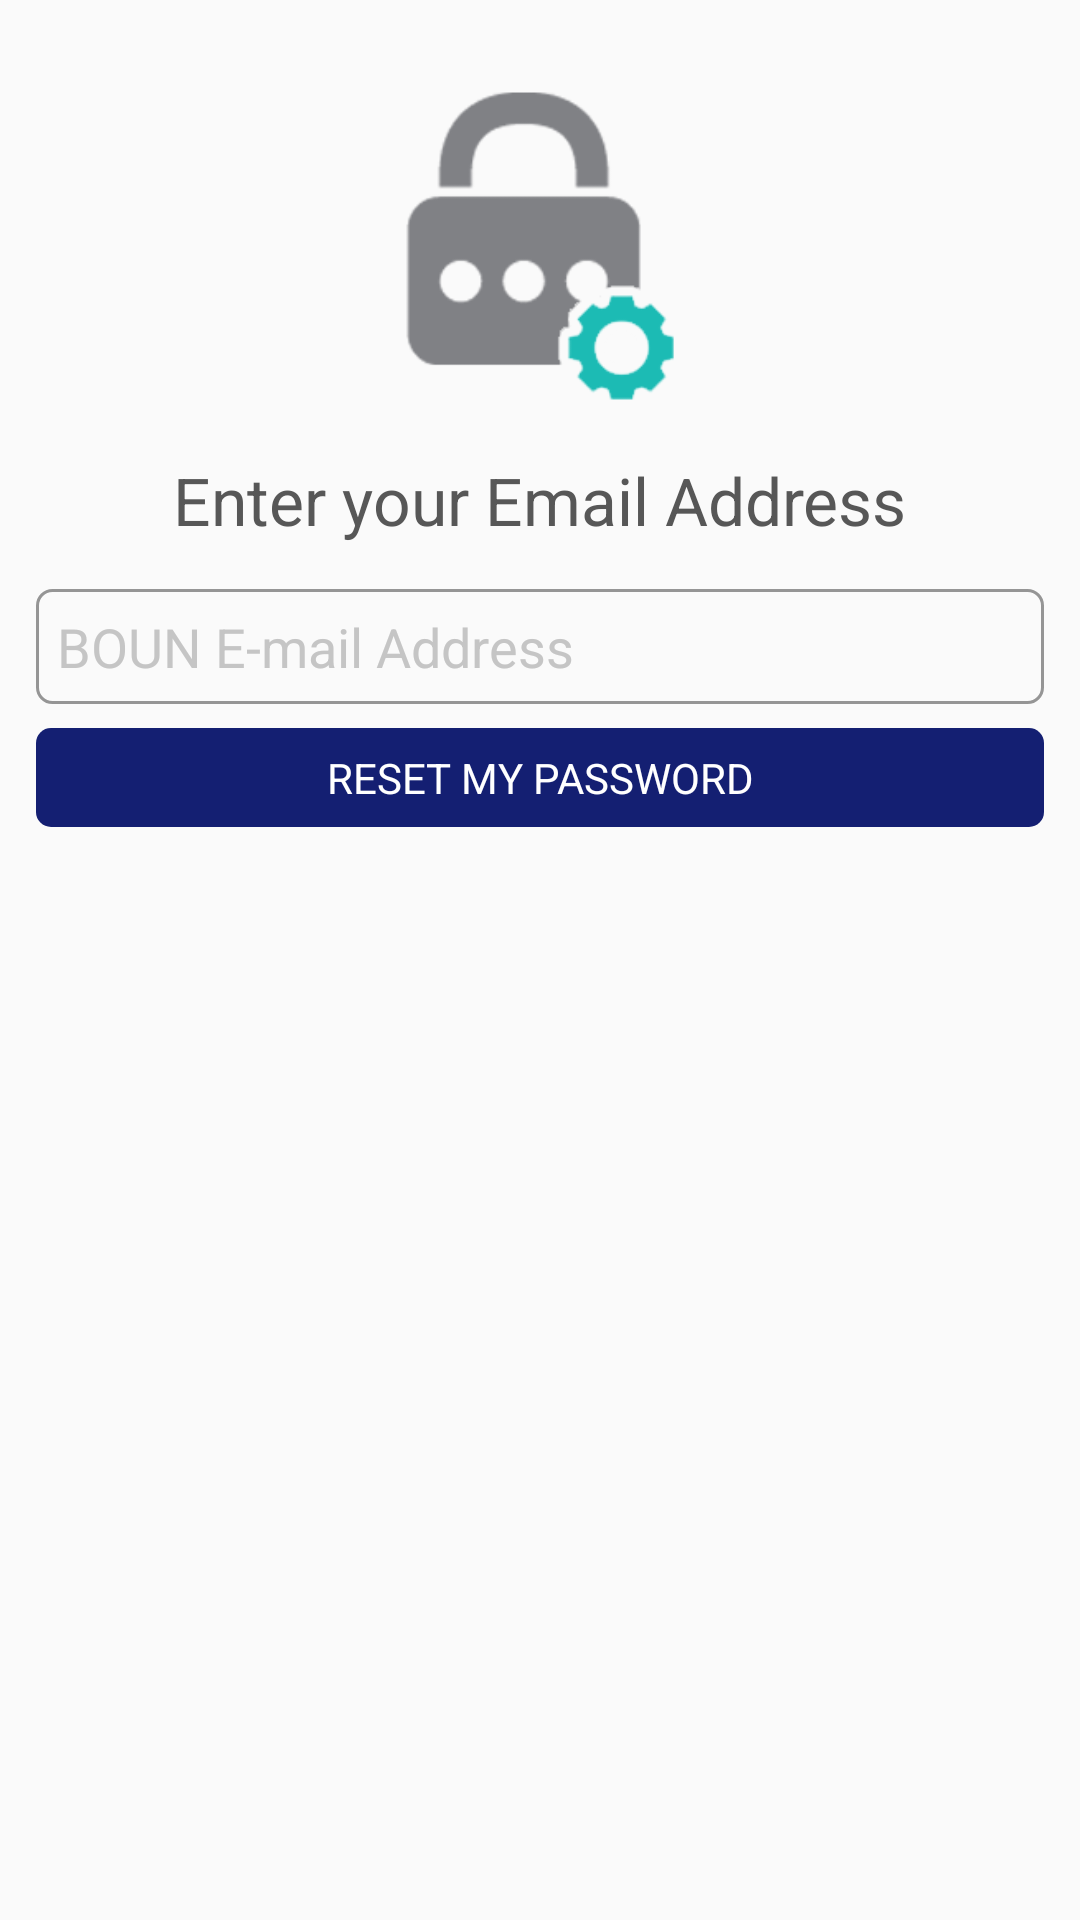

Where icons sit on this 1080*1920 app screen, as (left=x1, top=y1, right=x2, bottom=y2):
resetpw: (left=407, top=92, right=674, bottom=400)
